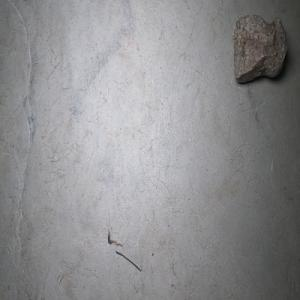Rock: (232, 14, 288, 83)
